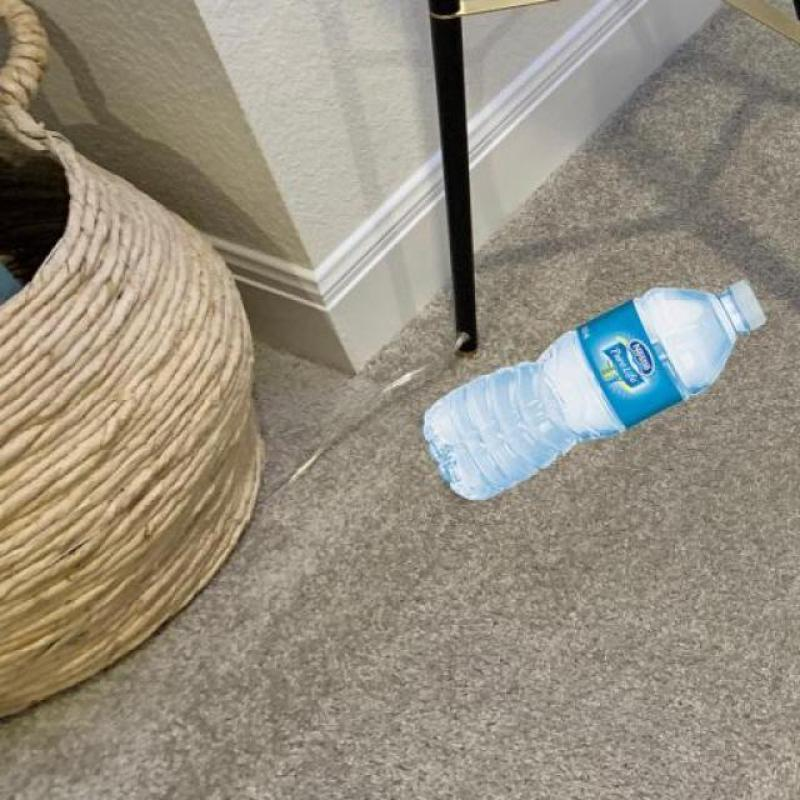botella: (422, 281, 767, 500)
